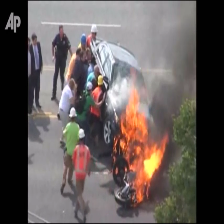fire_h: (119, 68, 168, 204)
fire_l: (112, 135, 118, 154), (114, 166, 118, 175), (112, 156, 116, 163), (124, 166, 127, 172)
